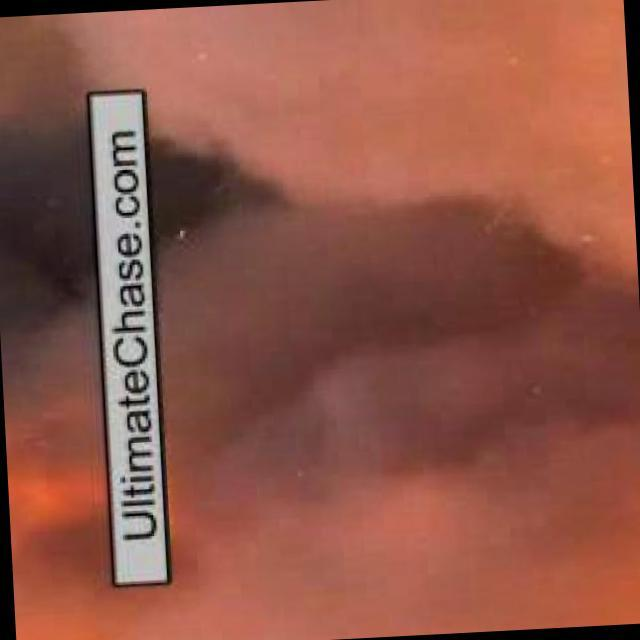Fire: (510, 503, 640, 631), (8, 427, 108, 556), (14, 575, 143, 640)
